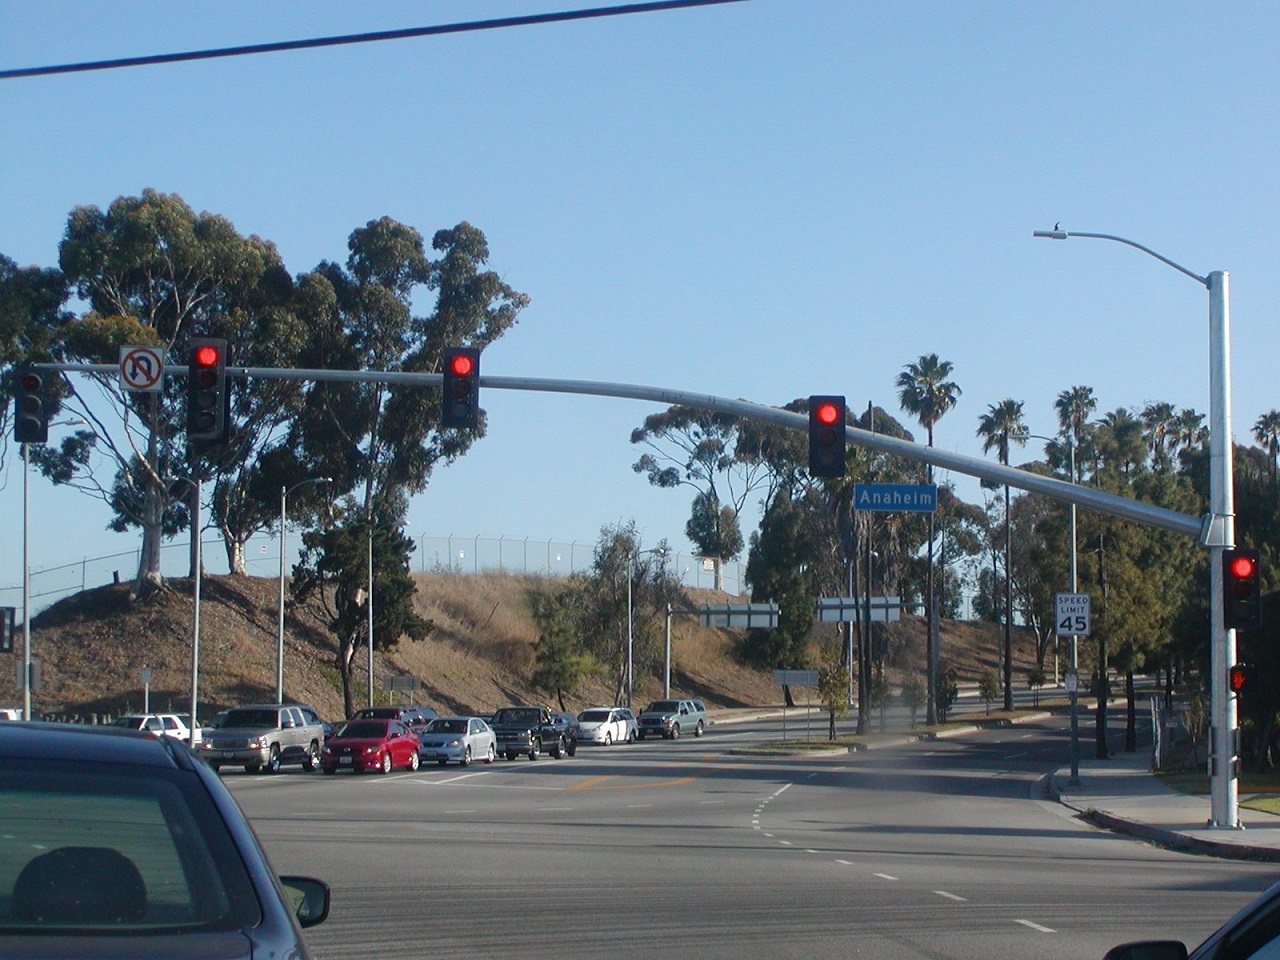traffic_light: (190, 343, 221, 434), (1227, 554, 1259, 624), (813, 401, 842, 471), (447, 353, 475, 422)
